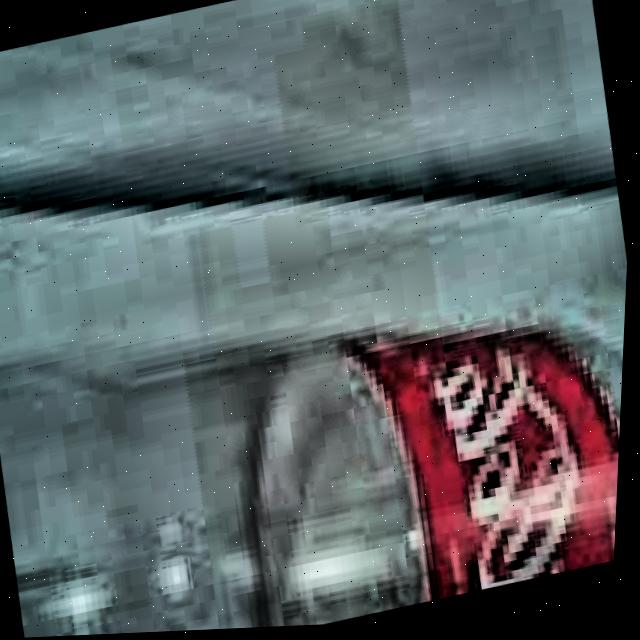plastic: (0, 203, 632, 640)
